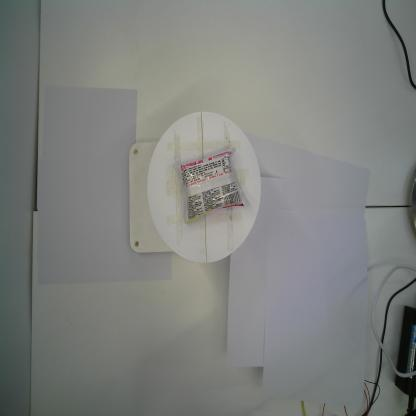Dessert: (174, 147, 247, 225)
